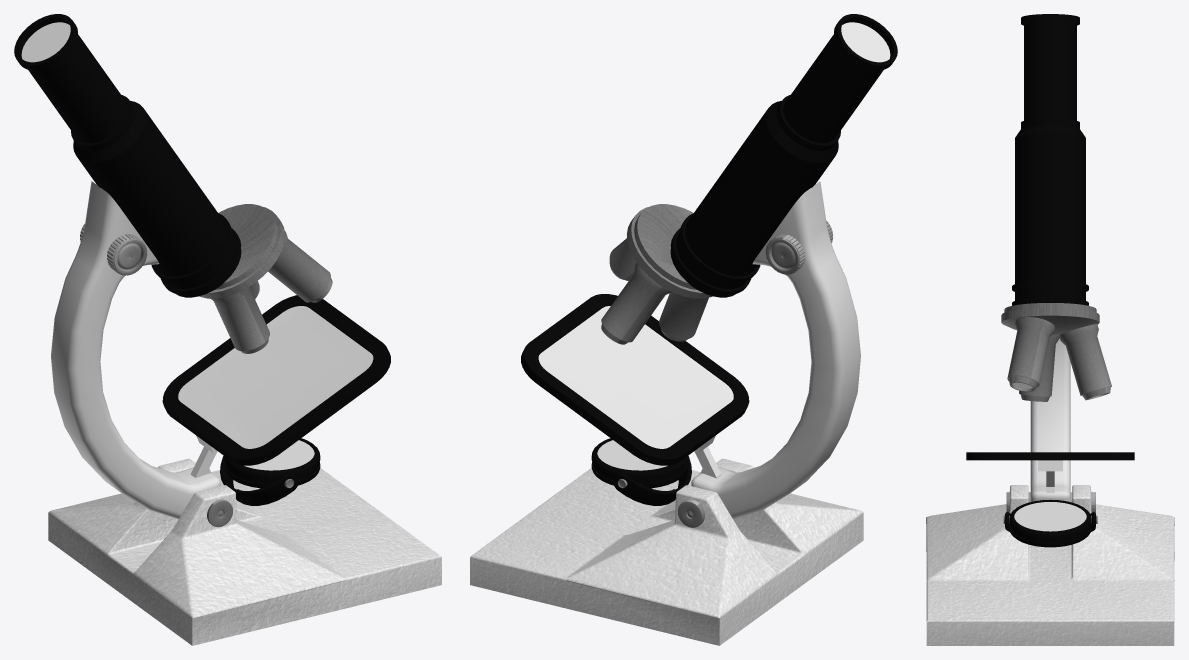
File: microscope.fbx
3 renders of one model, left to right at view 1: azimuth 30°, elevation 25°; view 2: azimuth 150°, elevation 25°; view 3: azimuth 270°, elevation 25°, orthographic. The views are drawn at different scales.
Visible parts, largest first — view 1: stand, BigLens, LensHolder, SampleStand.001, SampleStand, SmallLensHolder, Lens2, Lens1, Light, lens screw, BigLens.001, LightHolder (+1 smaller); view 2: stand, BigLens, LensHolder, SampleStand.001, SampleStand, SmallLensHolder, Lens3, Lens1, Light, BigLens.001, lens screw, LightHolder (+3 smaller); view 3: stand, BigLens, LensHolder, Lens3, Lens2, SmallLensHolder, Light.001, Light, SampleStand, Lens1, Sample stand holder.
Boxes of the visible parts, x1,y1,x2,y2 form: stand: (48,458,441,645); BigLens: (14,14,241,297); LensHolder: (51,181,220,519); SampleStand.001: (178,306,373,448); SampleStand: (162,295,390,465); SmallLensHolder: (199,204,284,298); Lens2: (268,231,332,302); Lens1: (210,287,269,353); Light: (224,438,320,488); lens screw: (80,223,147,275); BigLens.001: (21,22,70,62); LightHolder: (220,455,298,505); stand: (470,458,863,645); BigLens: (670,14,897,297); LensHolder: (691,181,860,519); SampleStand.001: (538,306,733,448); SampleStand: (521,294,749,465); SmallLensHolder: (627,204,712,298); Lens3: (601,262,671,344); Lens1: (659,292,708,341); Light: (591,438,687,488); BigLens.001: (841,22,890,62); lens screw: (765,220,833,274); LightHolder: (613,455,691,505); stand: (926,485,1174,645); BigLens: (1012,14,1088,305); LensHolder: (1030,338,1070,501); Lens3: (1059,324,1111,400); Lens2: (1007,317,1054,391); SmallLensHolder: (1001,303,1099,335); Light.001: (1014,502,1086,531); Light: (1009,499,1091,547); SampleStand: (966,452,1134,460); Lens1: (1019,335,1059,401); Sample stand holder: (1038,460,1062,492).
Size of the model in its own units: 42.14 by 67.64 by 30.15.
Materials: 3 (3 with a texture image).
